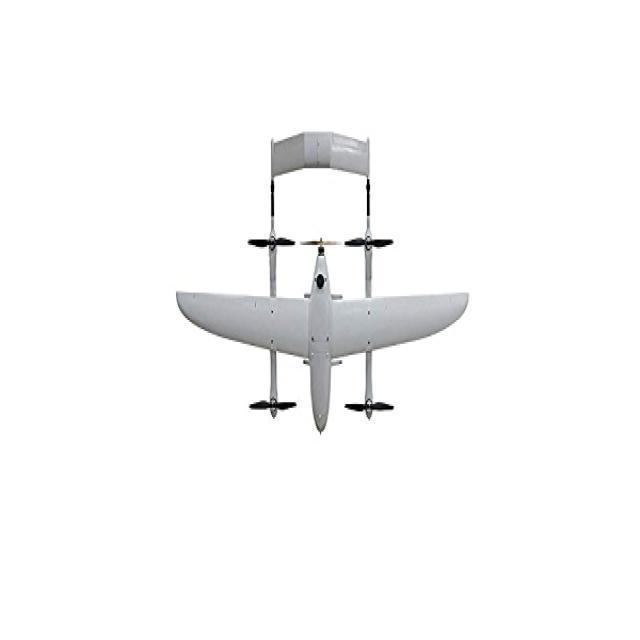Airplane: (169, 121, 476, 438)
